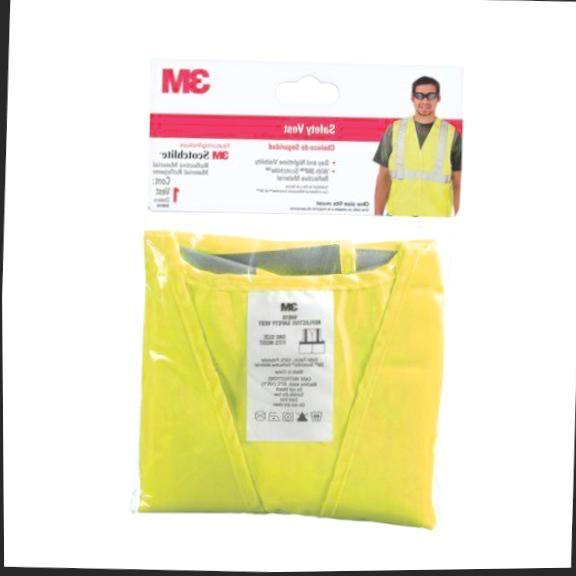safety_vest: (384, 115, 459, 217)
